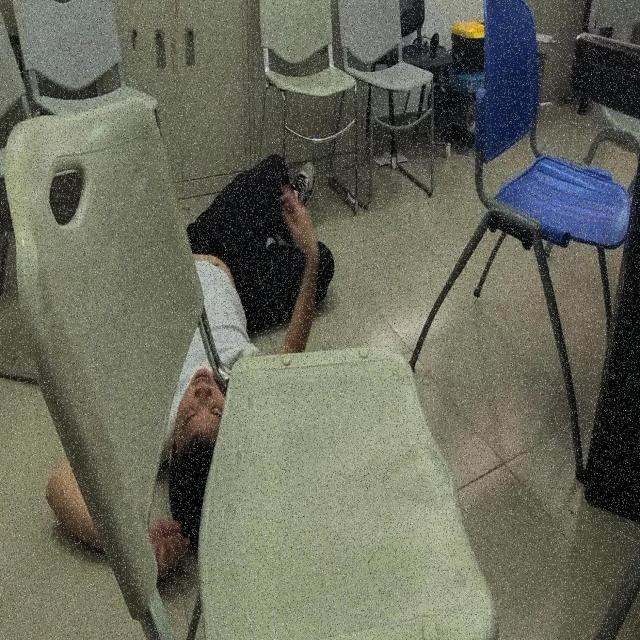fall: (47, 150, 331, 575)
